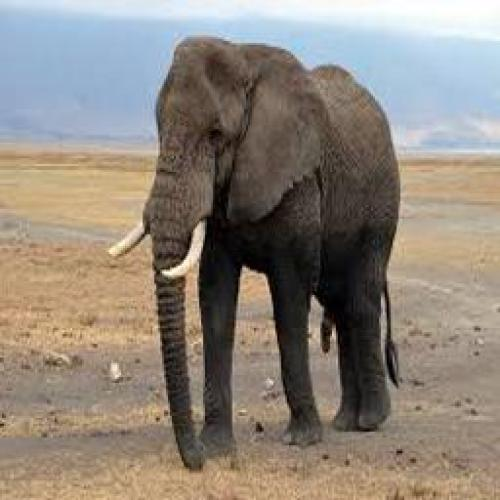african_elephant-endangered: (105, 34, 405, 475)
